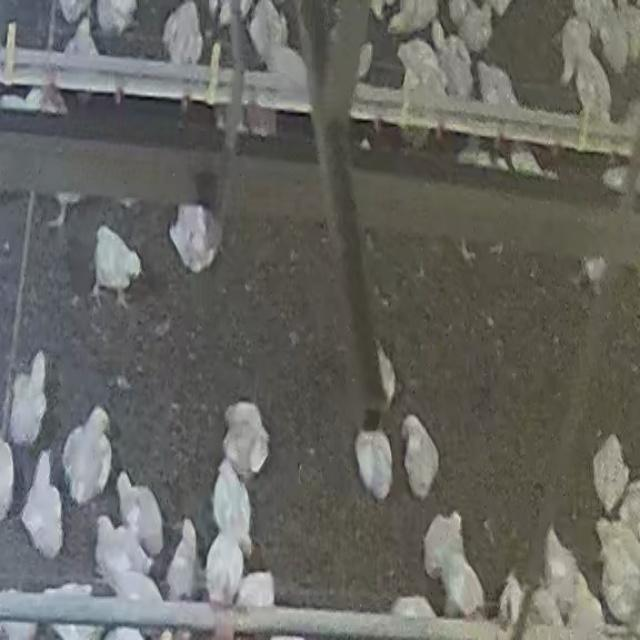chicken: (92, 512, 156, 596), (594, 517, 640, 622), (62, 408, 112, 504), (165, 198, 223, 280), (22, 451, 66, 558), (210, 462, 258, 558), (115, 469, 165, 558), (10, 348, 49, 448), (540, 524, 581, 619), (91, 227, 141, 300), (430, 20, 475, 100), (204, 528, 247, 609), (224, 401, 268, 480), (400, 414, 440, 500), (396, 36, 448, 100), (592, 433, 629, 516), (354, 425, 394, 500), (161, 0, 203, 70), (167, 518, 201, 602), (564, 573, 608, 637), (439, 558, 493, 610), (420, 512, 464, 574), (246, 0, 287, 66), (265, 40, 312, 92), (556, 17, 591, 86), (577, 51, 612, 118), (452, 2, 496, 55), (475, 61, 520, 110), (598, 8, 629, 74), (387, 0, 439, 36), (64, 16, 102, 62), (95, 0, 137, 39), (505, 142, 550, 178), (235, 570, 276, 609), (497, 572, 525, 629), (376, 342, 398, 410), (530, 583, 562, 628), (616, 478, 640, 536), (576, 256, 609, 296), (46, 192, 82, 228), (391, 595, 438, 619), (58, 0, 92, 26)
